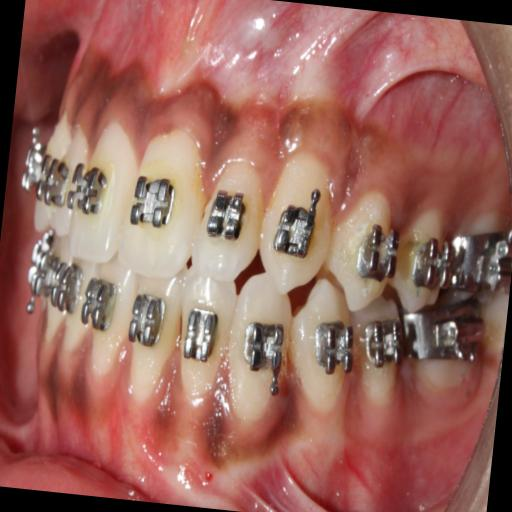correct_brace: (322, 186, 406, 311), (290, 280, 357, 412), (266, 196, 322, 268), (127, 165, 181, 233), (309, 310, 357, 381), (203, 187, 248, 247), (240, 320, 290, 374), (182, 304, 220, 364)
incorrect_brace: (192, 154, 270, 280), (172, 270, 240, 408), (360, 220, 400, 278)
